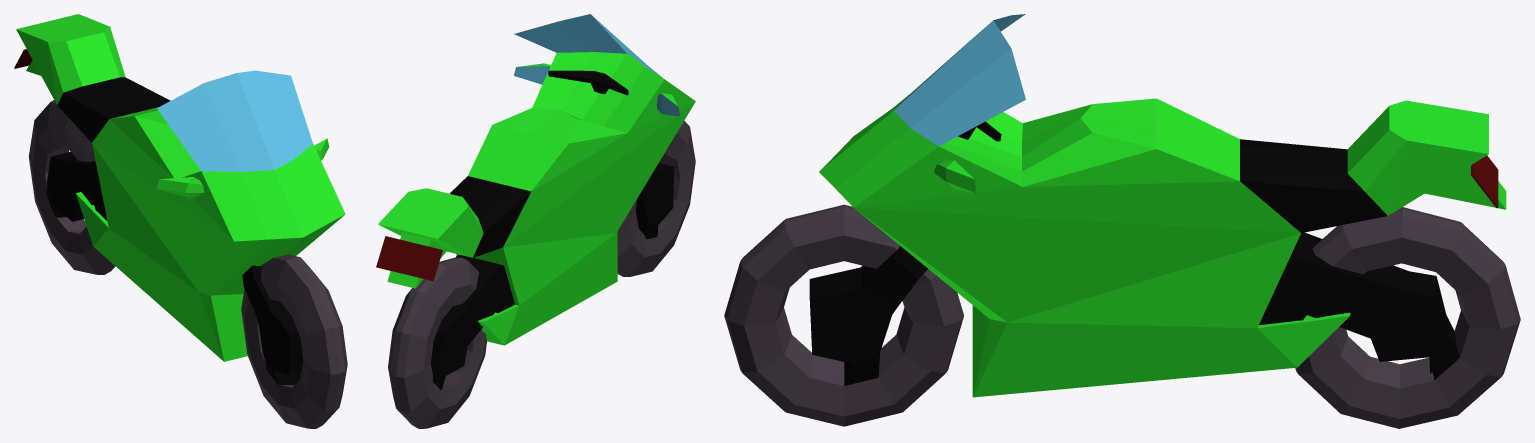
Rendered from bike.fbx.
The picture shows the model from 3 angles, left to right: view 1: azimuth 30°, elevation 25°; view 2: azimuth 150°, elevation 25°; view 3: azimuth 270°, elevation 25°; orthographic projection. The views are drawn at different scales.
Visible parts, largest first — view 1: MotorradBody, MotorradVorderrad, MotorradHinterrad; view 2: MotorradBody, MotorradHinterrad, MotorradVorderrad; view 3: MotorradBody, MotorradVorderrad, MotorradHinterrad.
Boxes of the visible parts, x1,y1,x2,y2 form: MotorradBody: [14, 14, 345, 385]; MotorradVorderrad: [241, 254, 347, 428]; MotorradHinterrad: [28, 100, 115, 274]; MotorradBody: [376, 14, 695, 390]; MotorradHinterrad: [388, 257, 486, 428]; MotorradVorderrad: [617, 121, 695, 276]; MotorradBody: [809, 14, 1506, 397]; MotorradVorderrad: [724, 204, 963, 426]; MotorradHinterrad: [1295, 207, 1520, 428].
Bounding box in the file's own units: 217 × 374 × 664.
